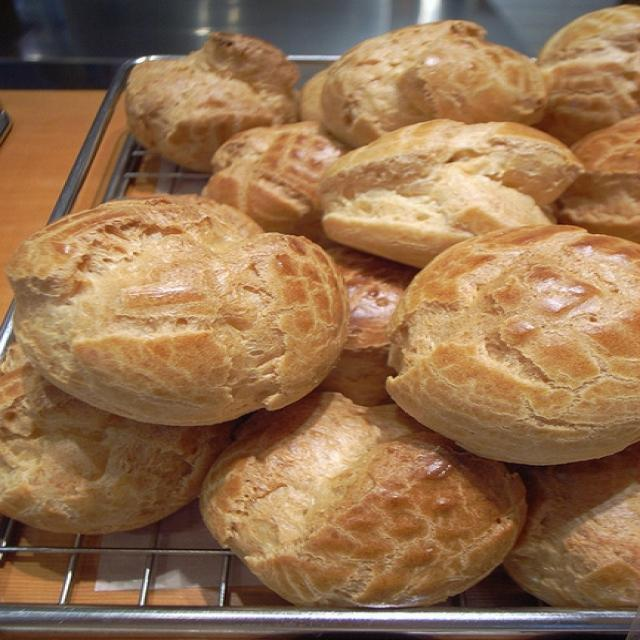炸货点心: (6, 16, 635, 616)
蛋糕甜品: (6, 16, 635, 616)
